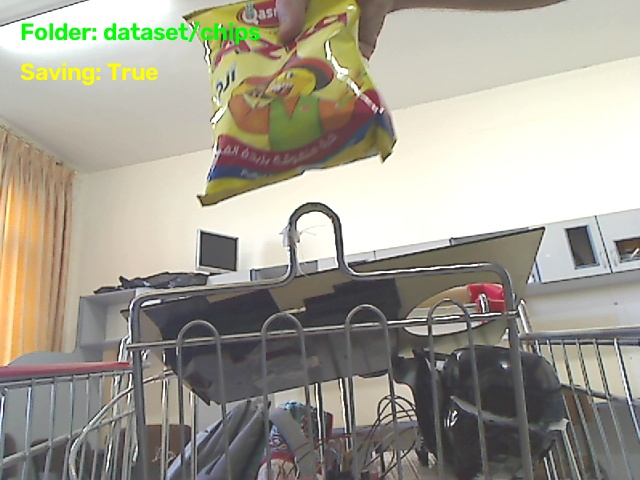chips: (185, 0, 395, 205)
